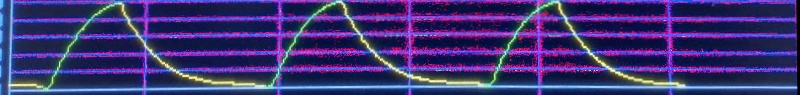normal_volume: (7, 0, 680, 92)
